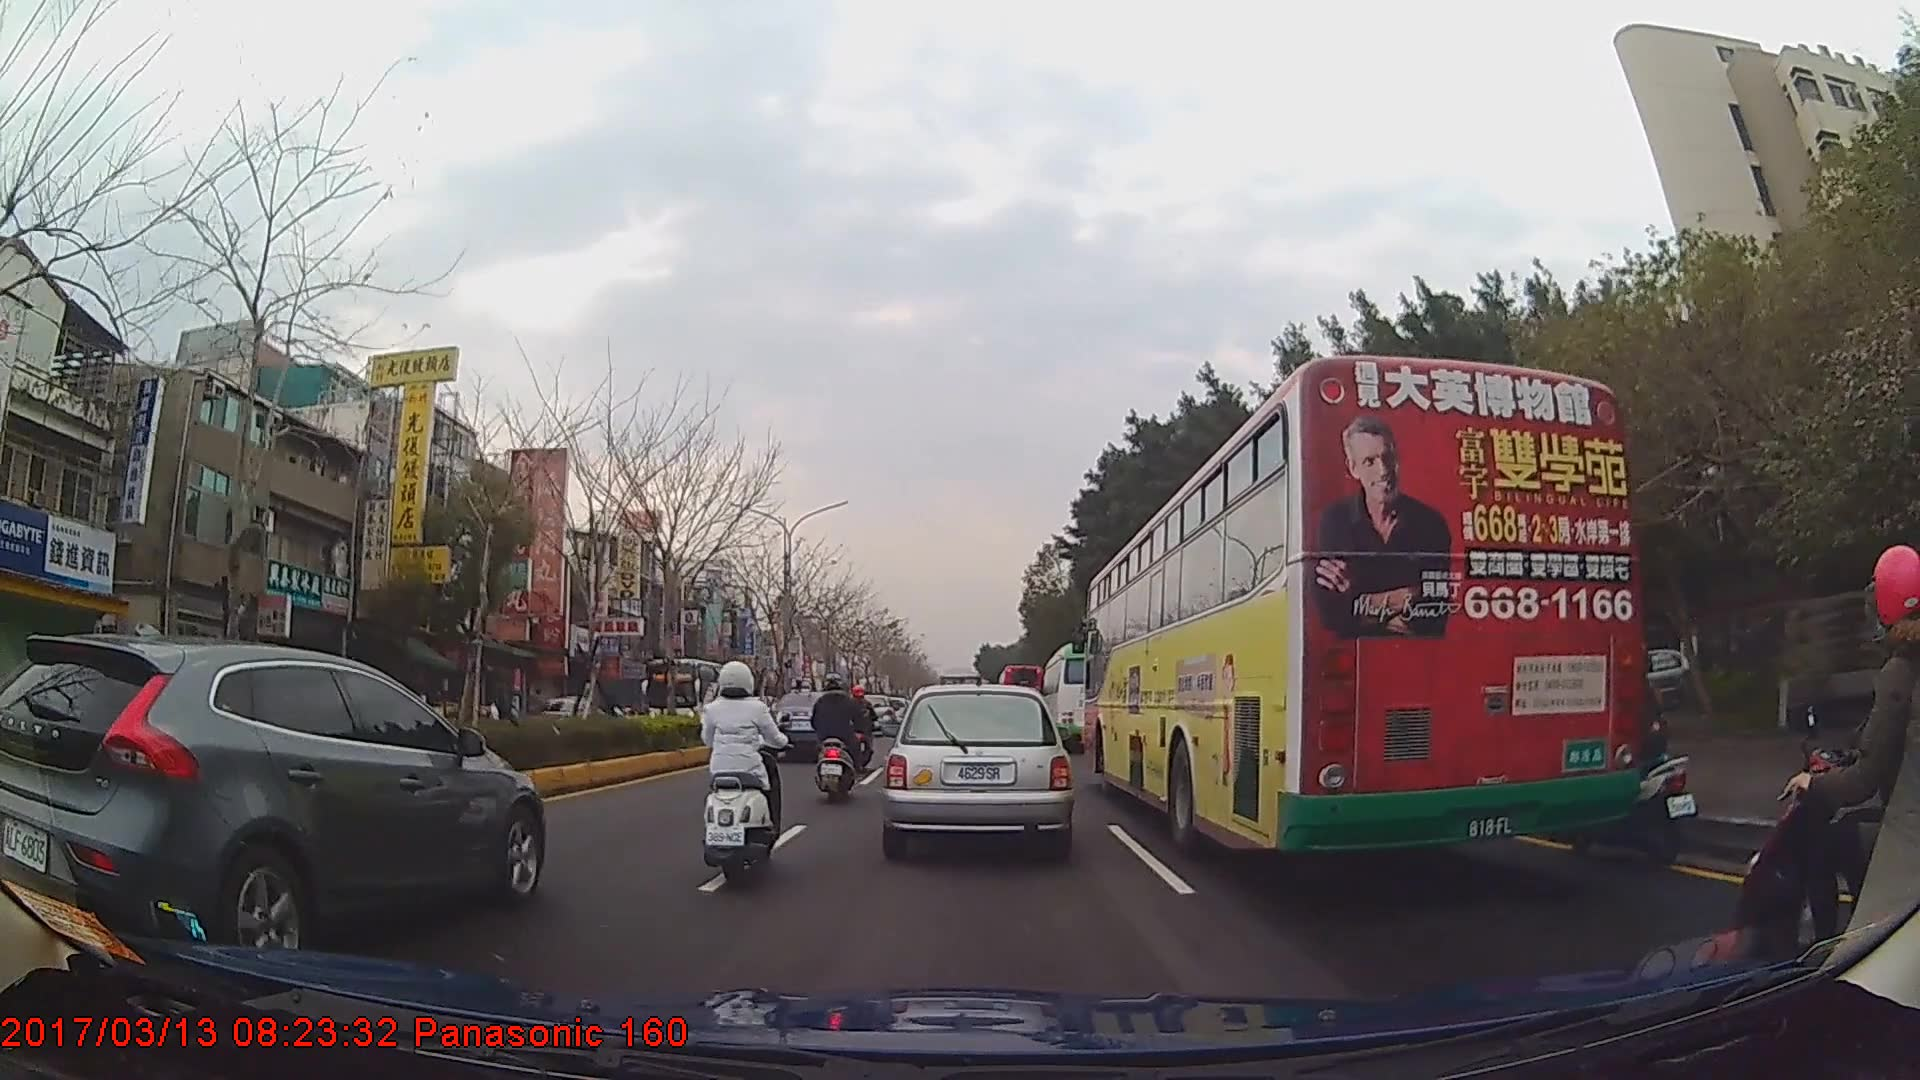rider: (1732, 542, 1920, 1007), (1575, 636, 1701, 873), (700, 654, 792, 880), (809, 673, 863, 802), (844, 681, 879, 770)
vehicle: (1086, 349, 1646, 863), (0, 631, 545, 971), (884, 681, 1071, 858), (1040, 641, 1122, 748), (773, 690, 871, 764), (642, 657, 729, 728), (997, 658, 1045, 729), (532, 692, 601, 734)
